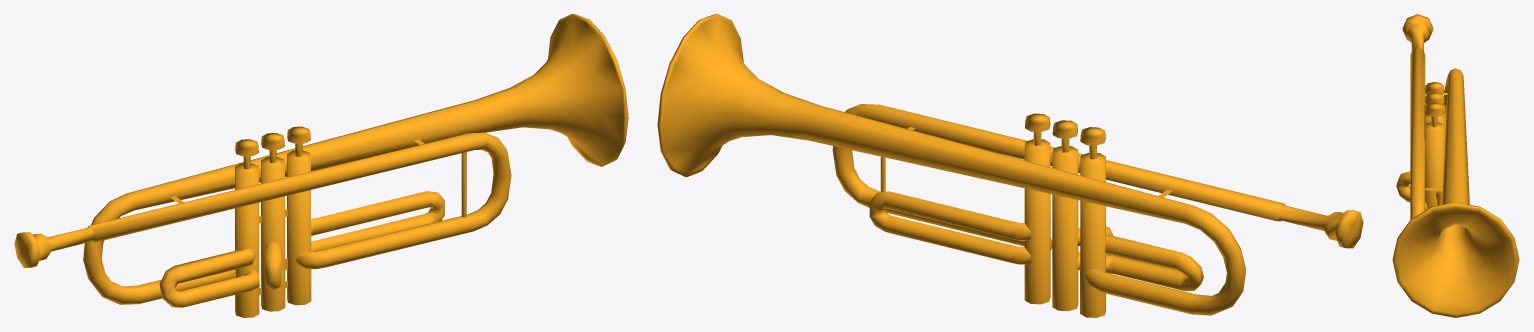
Rendered from trumpet.glb.
3 views of the same model, side by side, from view 1: azimuth 30°, elevation 25°; view 2: azimuth 150°, elevation 25°; view 3: azimuth 270°, elevation 25° (orthographic). The views are drawn at different scales.
Parts seen in each view (by area): view 1: _0_0_node; view 2: _0_0_node; view 3: _0_0_node.
Part boxes in pixels (x1=…): _0_0_node: x1=14, y1=14, x2=628, y2=317; _0_0_node: x1=657, y1=14, x2=1363, y2=317; _0_0_node: x1=1392, y1=14, x2=1519, y2=317.
Size of the model in its own units: 10.52 by 3.37 by 2.42.
